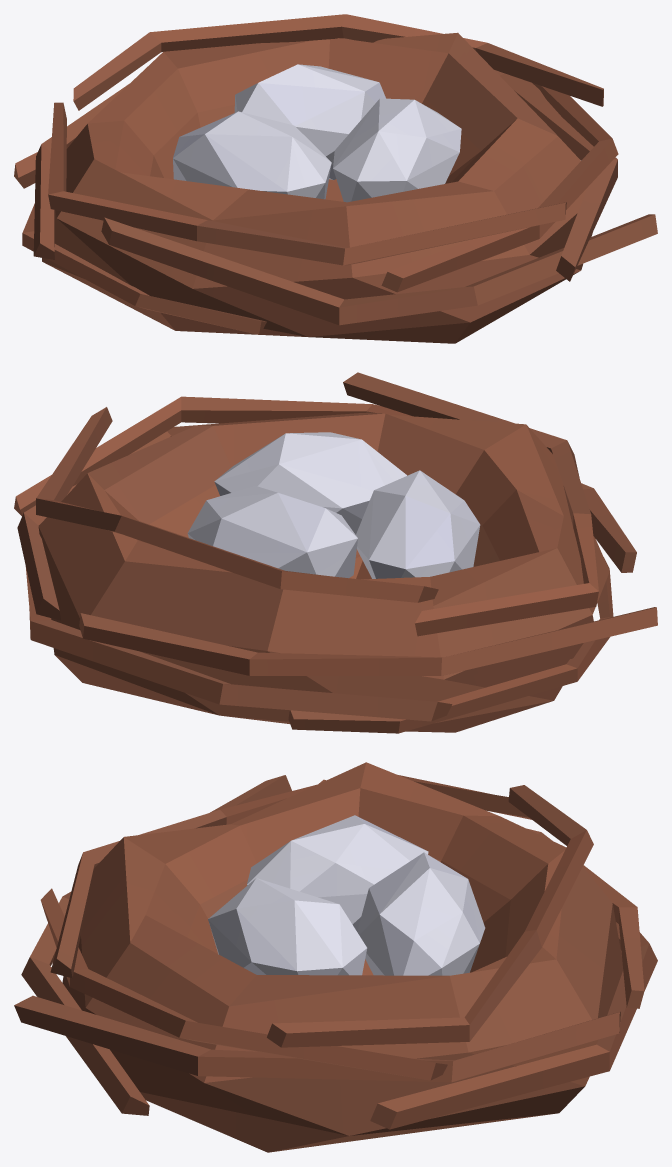
The model's file is nest-without-feather.glb.
3 renders of one model, top to bottom at view 1: azimuth 30°, elevation 25°; view 2: azimuth 150°, elevation 25°; view 3: azimuth 270°, elevation 25°, orthographic. The views are drawn at different scales.
Parts seen in each view (by area): view 1: Object_4.001; view 2: Object_4.001; view 3: Object_4.001.
Part boxes in pixels (box(x1,y1,x2,y2)): Object_4.001: box(14, 14, 657, 343); Object_4.001: box(14, 372, 657, 733); Object_4.001: box(14, 762, 657, 1152).
Size of the model in its own units: 2.15 by 0.695 by 1.95.
1 material, 1 textured.
